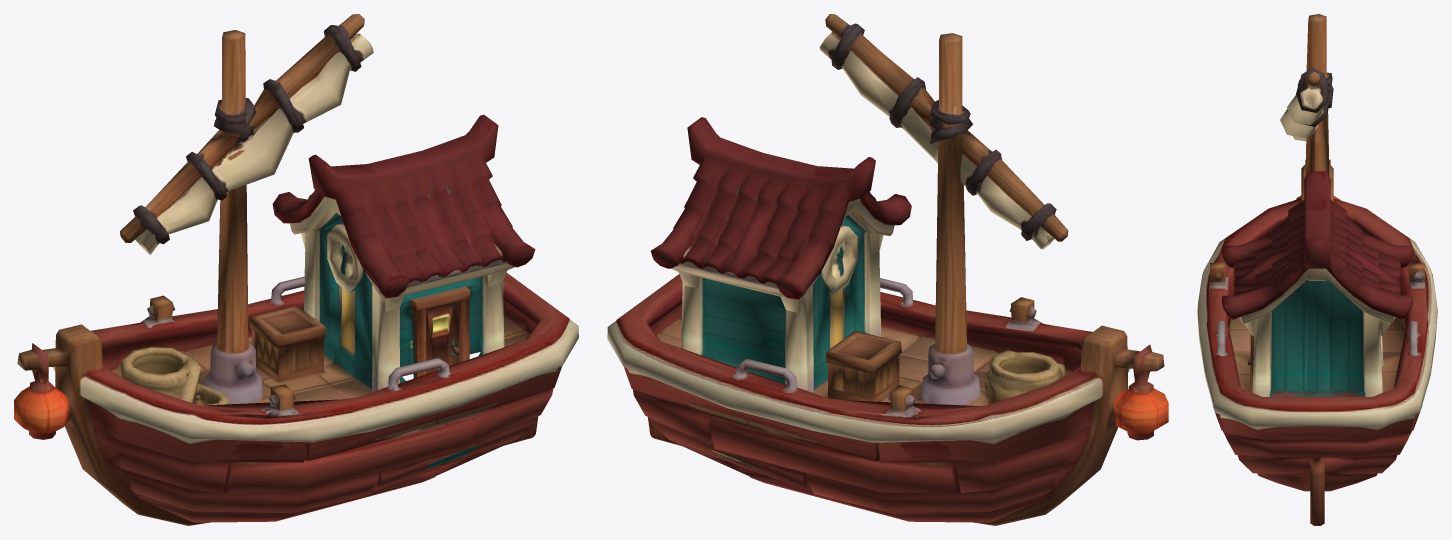
File: boat.glb
3 renders of one model, left to right at view 1: azimuth 30°, elevation 25°; view 2: azimuth 150°, elevation 25°; view 3: azimuth 270°, elevation 25°, orthographic. The views are drawn at different scales.
Parts seen in each view (by area): view 1: tripo_node_bf53028d-8792-4343-a896-842f15e6ca92; view 2: tripo_node_bf53028d-8792-4343-a896-842f15e6ca92; view 3: tripo_node_bf53028d-8792-4343-a896-842f15e6ca92.
Boxes of the visible parts, box(x1,y1,x2,y2) form: tripo_node_bf53028d-8792-4343-a896-842f15e6ca92: box(14, 14, 578, 525); tripo_node_bf53028d-8792-4343-a896-842f15e6ca92: box(607, 14, 1168, 525); tripo_node_bf53028d-8792-4343-a896-842f15e6ca92: box(1197, 14, 1437, 525).
Size of the model in its own units: 0.9785 by 0.856 by 0.473.
1 material, 1 textured.
